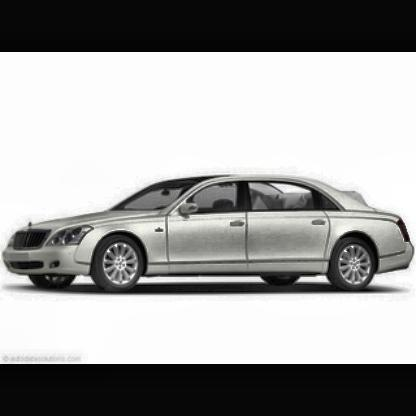Maybach Landaulet Convertible 2012: (4, 176, 414, 290)
